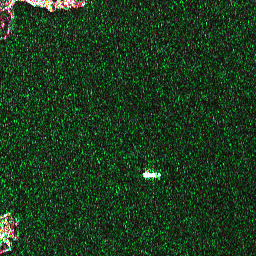ship: (141, 170, 162, 180)
